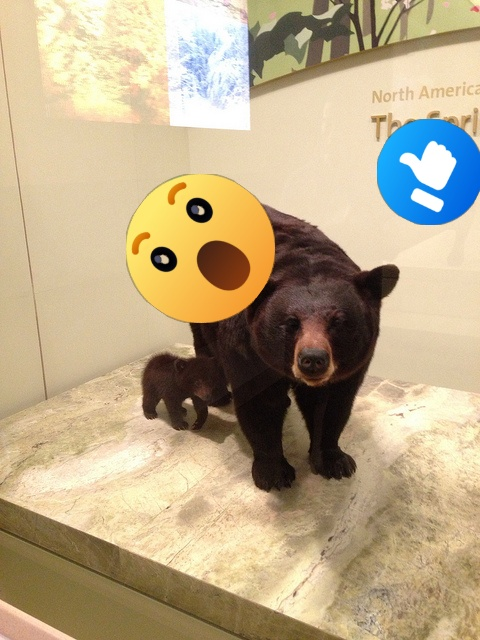like: (377, 119, 480, 225)
wow: (126, 174, 275, 323)
